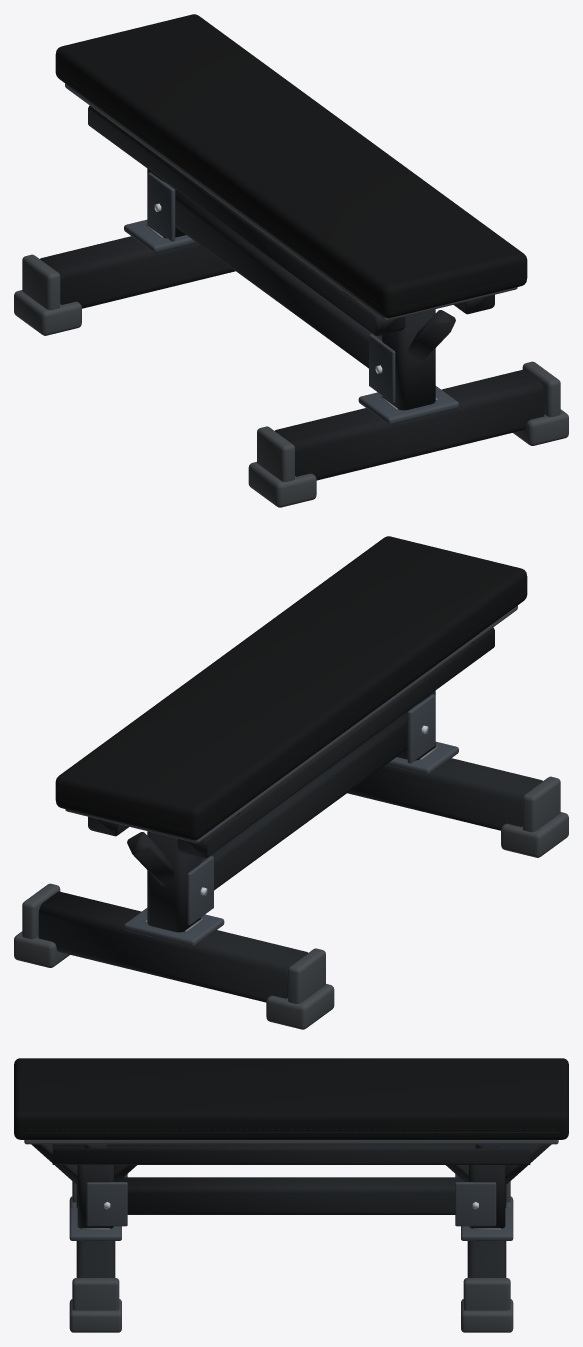
Rendered from flat_weight_bench.glb.
3 renders of one model, top to bottom at view 1: azimuth 30°, elevation 25°; view 2: azimuth 150°, elevation 25°; view 3: azimuth 270°, elevation 25°, orthographic. The views are drawn at different scales.
Parts seen in each view (by area): view 1: BenchCushion_Padding, FrontStabilizerFoot_Frame, RubberEndCaps_Rubber, RearStabilizerFoot_Frame, FrameCrossbar_Frame, MainFrame_Frame, FrontSupport_Frame, FrameCrossbar_Trim, CushionBase_Cap, FrontSupport_Trim, RearSupport_Trim; view 2: BenchCushion_Padding, RearStabilizerFoot_Frame, RubberEndCaps_Rubber, FrontStabilizerFoot_Frame, FrameCrossbar_Frame, MainFrame_Frame, RearSupport_Frame, FrameCrossbar_Trim, CushionBase_Cap, RearSupport_Trim, FrontSupport_Trim; view 3: BenchCushion_Padding, FrameCrossbar_Frame, MainFrame_Frame, RubberEndCaps_Rubber, FrameCrossbar_Trim, CushionBase_Cap, FrontSupport_Frame, RearSupport_Frame, FrontStabilizerFoot_Frame, RearStabilizerFoot_Frame, FrontSupport_Trim, RearSupport_Trim (+1 smaller).
Boxes of the visible parts, left/top/right/bottom form: BenchCushion_Padding: left=55, top=14, right=527, bottom=318; FrontStabilizerFoot_Frame: left=275, top=369, right=544, bottom=480; RubberEndCaps_Rubber: left=14, top=254, right=568, bottom=507; RearStabilizerFoot_Frame: left=40, top=236, right=235, bottom=308; FrameCrossbar_Frame: left=175, top=190, right=381, bottom=368; MainFrame_Frame: left=88, top=105, right=494, bottom=335; FrontSupport_Frame: left=382, top=309, right=455, bottom=410; FrameCrossbar_Trim: left=147, top=172, right=395, bottom=403; CushionBase_Cap: left=65, top=83, right=517, bottom=321; FrontSupport_Trim: left=358, top=386, right=458, bottom=424; RearSupport_Trim: left=124, top=219, right=196, bottom=252; BenchCushion_Padding: left=55, top=536, right=527, bottom=840; RearStabilizerFoot_Frame: left=38, top=891, right=307, bottom=1002; RubberEndCaps_Rubber: left=14, top=776, right=568, bottom=1029; FrontStabilizerFoot_Frame: left=347, top=758, right=542, bottom=830; FrameCrossbar_Frame: left=201, top=712, right=407, bottom=890; MainFrame_Frame: left=88, top=627, right=494, bottom=857; RearSupport_Frame: left=127, top=831, right=200, bottom=932; FrameCrossbar_Trim: left=187, top=694, right=435, bottom=925; CushionBase_Cap: left=65, top=605, right=517, bottom=843; RearSupport_Trim: left=124, top=908, right=224, bottom=946; FrontSupport_Trim: left=386, top=741, right=458, bottom=774; BenchCushion_Padding: left=14, top=1058, right=568, bottom=1139; FrameCrossbar_Frame: left=119, top=1177, right=463, bottom=1214; MainFrame_Frame: left=52, top=1144, right=530, bottom=1164; RubberEndCaps_Rubber: left=69, top=1181, right=513, bottom=1332; FrameCrossbar_Trim: left=86, top=1174, right=496, bottom=1226; CushionBase_Cap: left=24, top=1140, right=558, bottom=1144; FrontSupport_Frame: left=31, top=1144, right=136, bottom=1228; RearSupport_Frame: left=446, top=1144, right=551, bottom=1228; FrontStabilizerFoot_Frame: left=76, top=1185, right=115, bottom=1277; RearStabilizerFoot_Frame: left=467, top=1185, right=506, bottom=1277; FrontSupport_Trim: left=69, top=1207, right=121, bottom=1240; RearSupport_Trim: left=461, top=1207, right=513, bottom=1240.
Bounding box in the file's own units: 0.619 × 0.459 × 1.22.
Materials: 8 (2 with a texture image).
